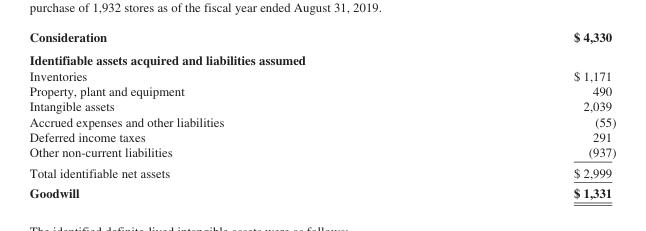table: (28, 29, 615, 199)
table column: (28, 29, 398, 199), (398, 29, 615, 199)
table projected row header: (28, 48, 615, 67)
table row: (28, 162, 615, 182), (28, 29, 615, 48), (28, 48, 615, 67), (28, 144, 615, 162), (28, 182, 615, 199), (28, 67, 615, 83), (28, 128, 615, 144), (28, 83, 615, 98), (28, 98, 615, 113), (28, 113, 615, 128)
